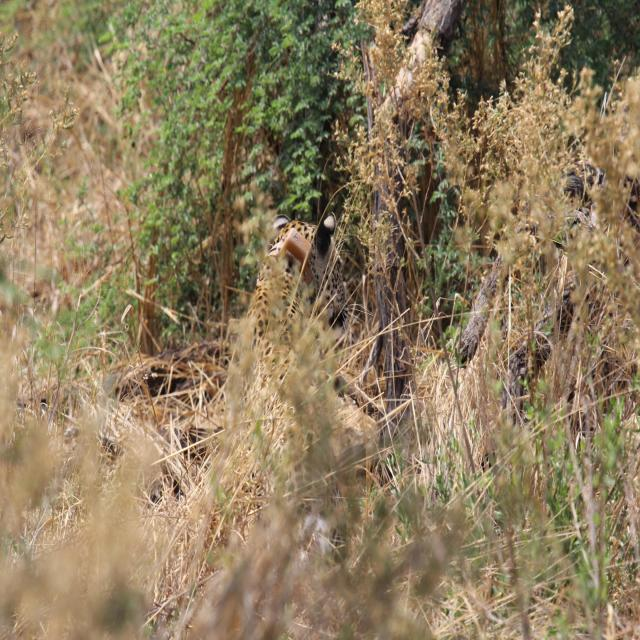Leopard: (226, 177, 357, 614)
